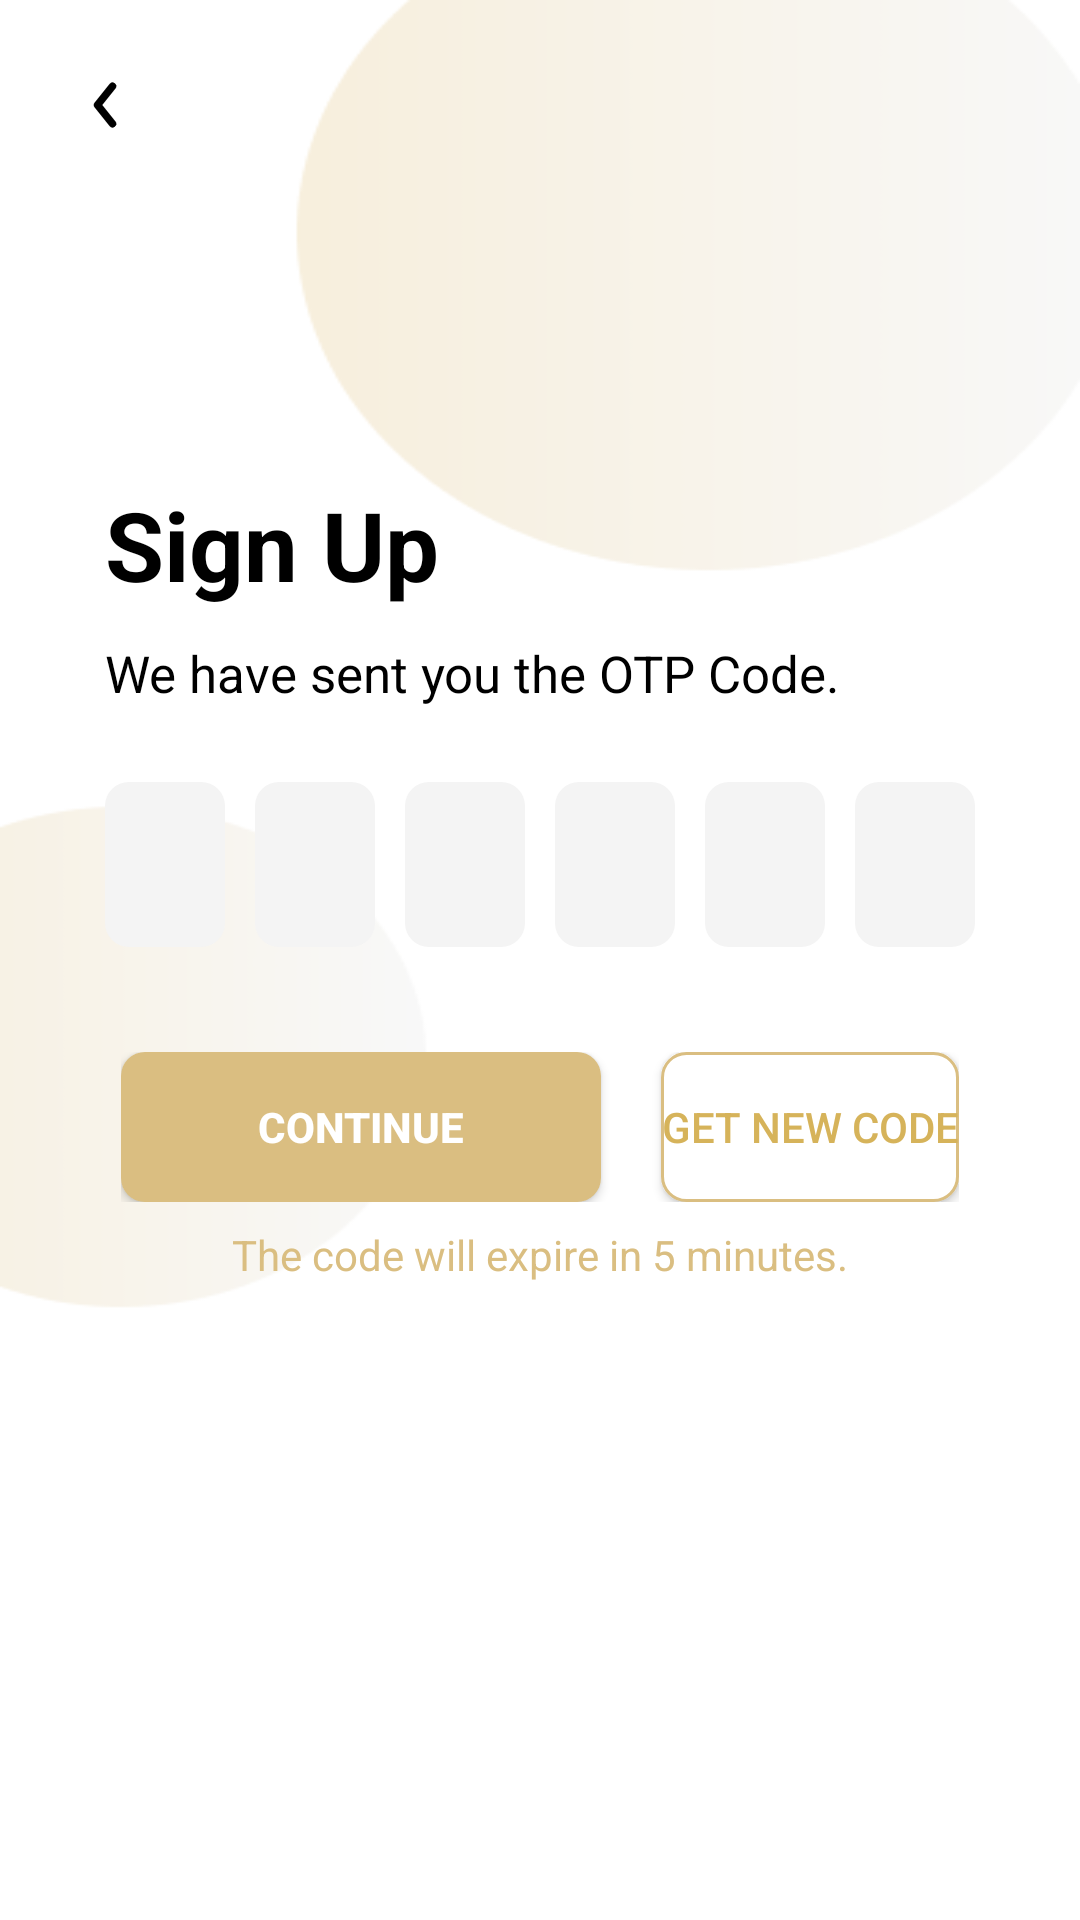

Screen size 1080 × 1920. Icon name, then its box in pixels as (x1, y1, x2, y2):
Back Button: (93, 82, 117, 128)
